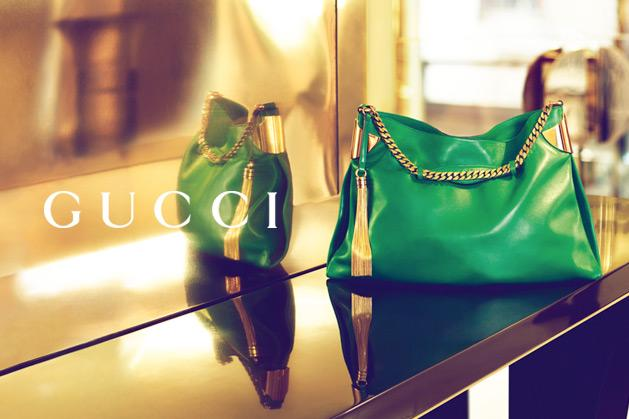GUCCI: (44, 190, 279, 231)
